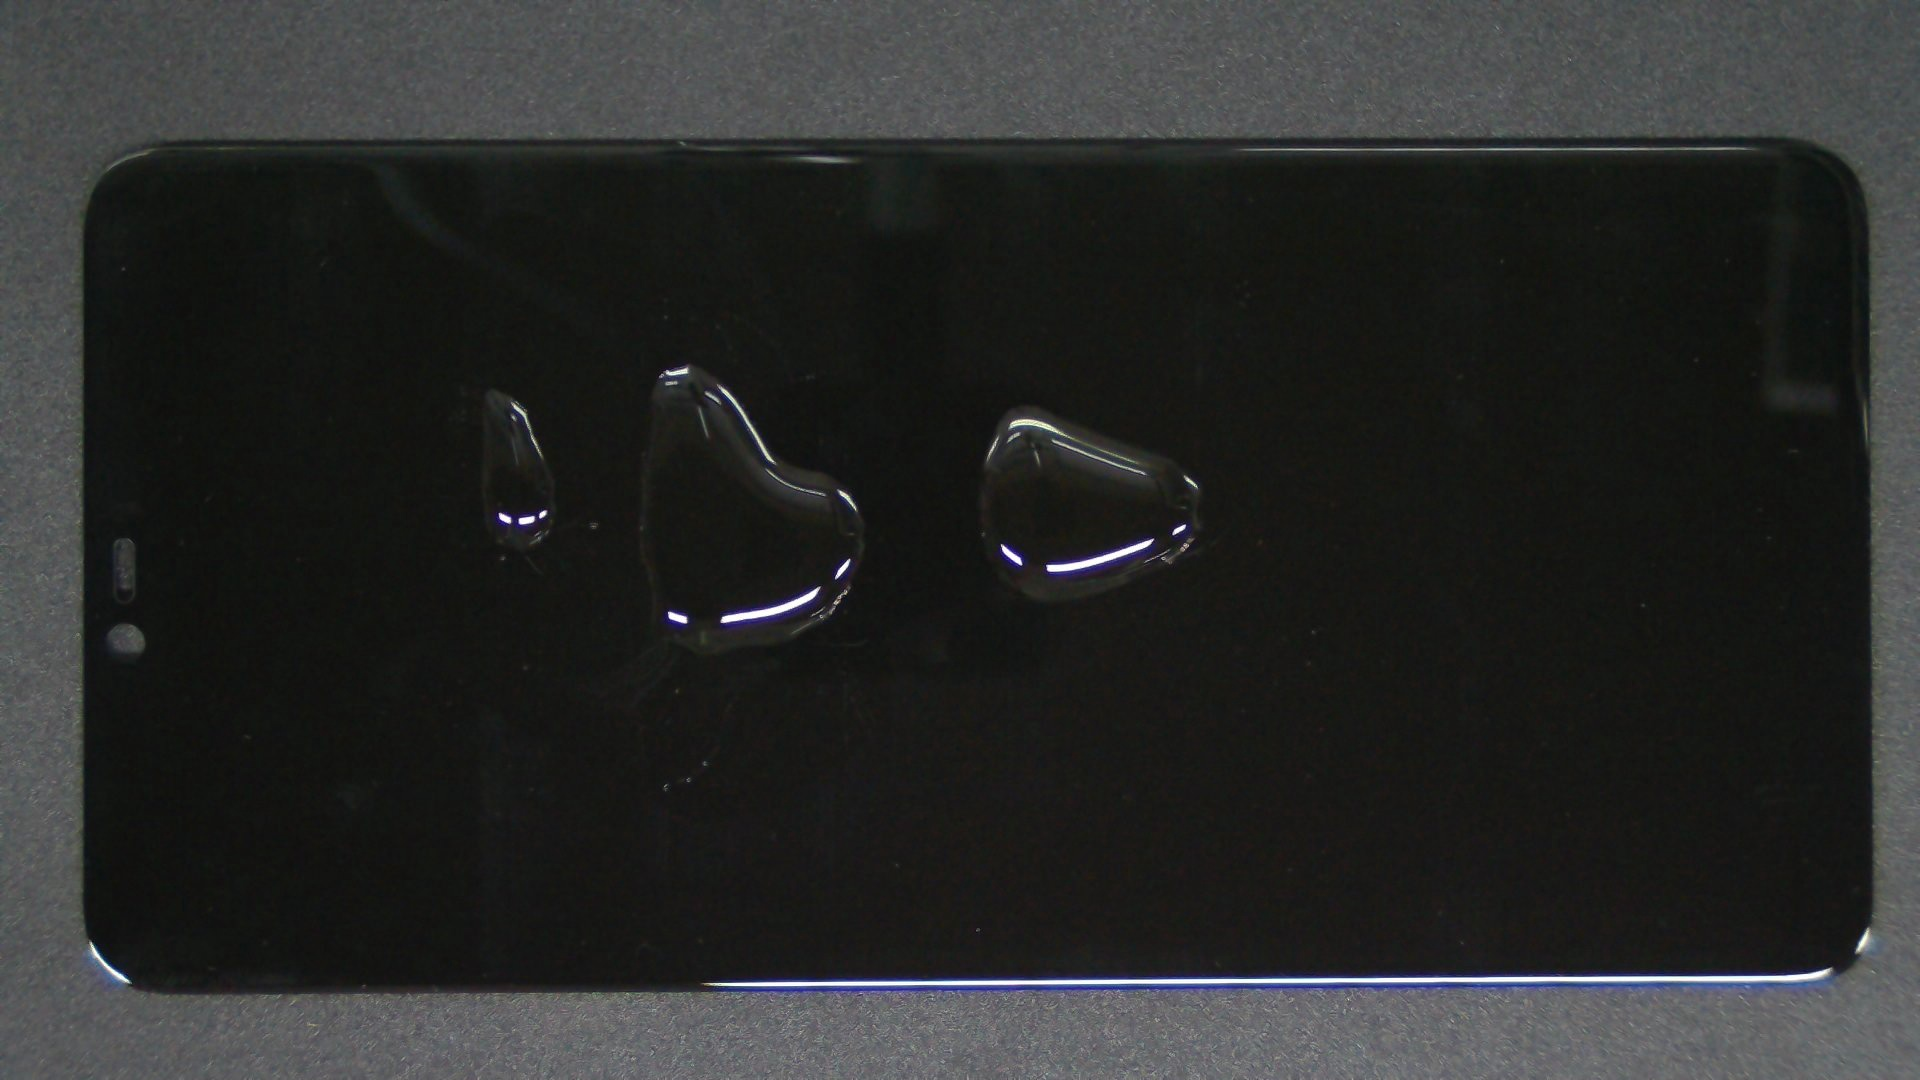oil: (513, 196, 1518, 611), (344, 181, 1034, 543), (247, 193, 736, 582)
